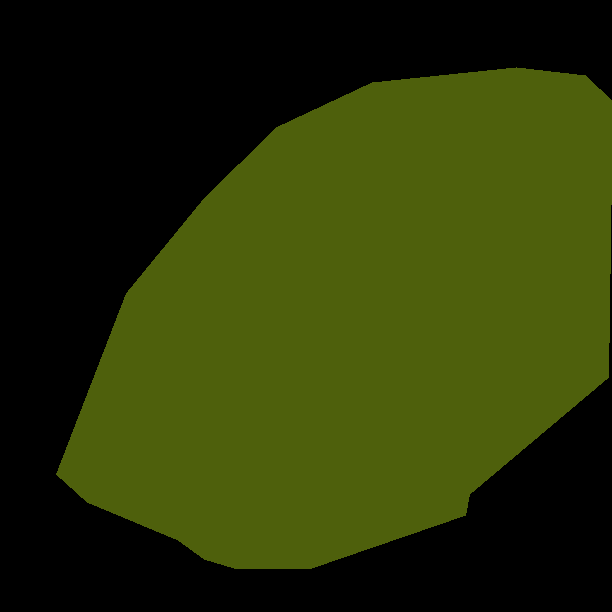Train: (56, 67, 612, 569)
